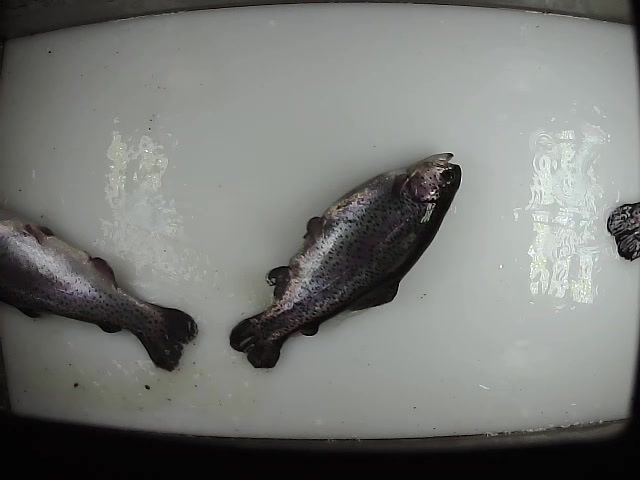fish: (225, 145, 469, 371), (1, 213, 202, 373)
